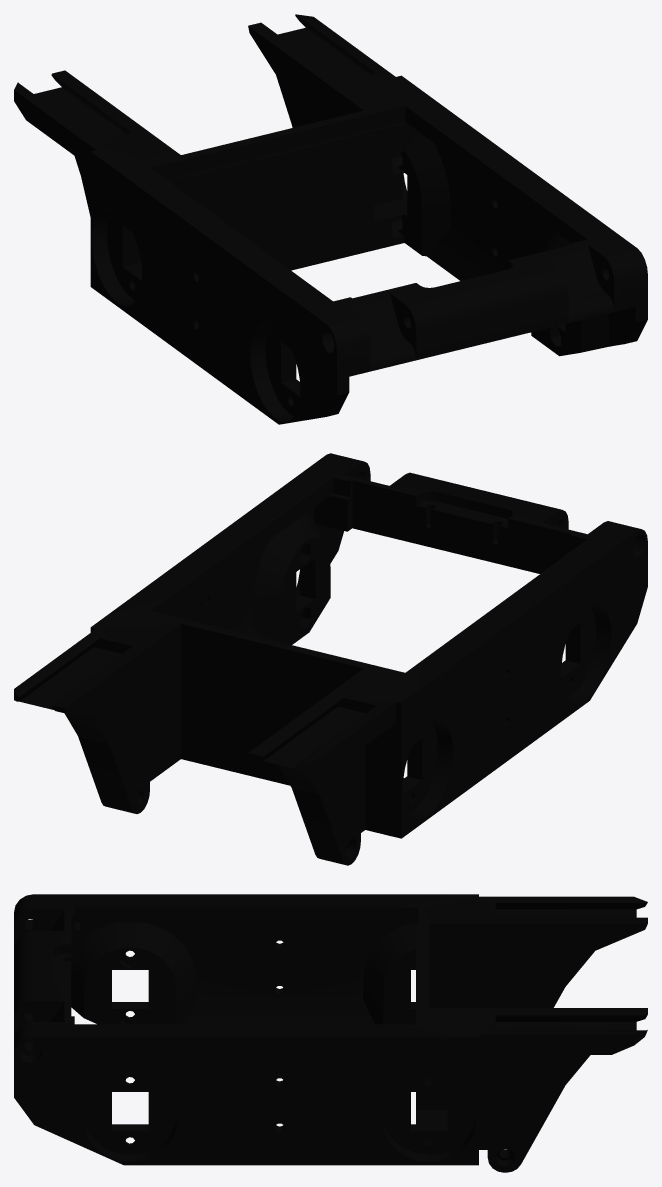
File: korpus.fbx
The picture shows the model from 3 angles, top to bottom: view 1: azimuth 30°, elevation 25°; view 2: azimuth 150°, elevation 25°; view 3: azimuth 270°, elevation 25°; orthographic projection. The views are drawn at different scales.
Parts seen in each view (by area): view 1: korpus.001; view 2: korpus.001; view 3: korpus.001.
Part boxes in pixels (<box>): korpus.001: <box>14,14,647,424</box>; korpus.001: <box>14,453,647,865</box>; korpus.001: <box>14,894,647,1172</box>.
Bounding box in the file's own units: 10.2 × 5 × 19.08.
Materials: 1 (1 with a texture image).
